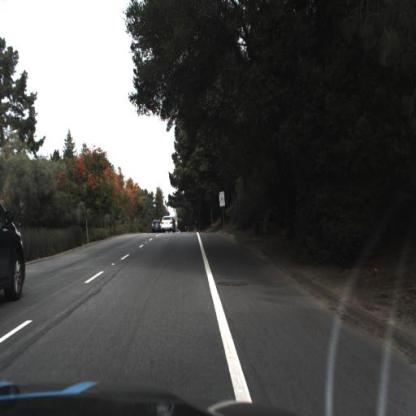car: (1, 179, 29, 313), (159, 214, 179, 237), (151, 217, 165, 237)
